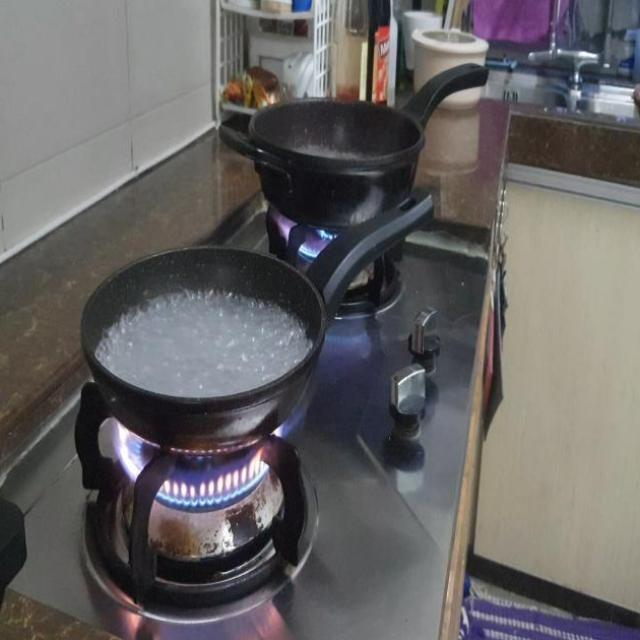smoke: (115, 403, 312, 511), (260, 184, 338, 268)
